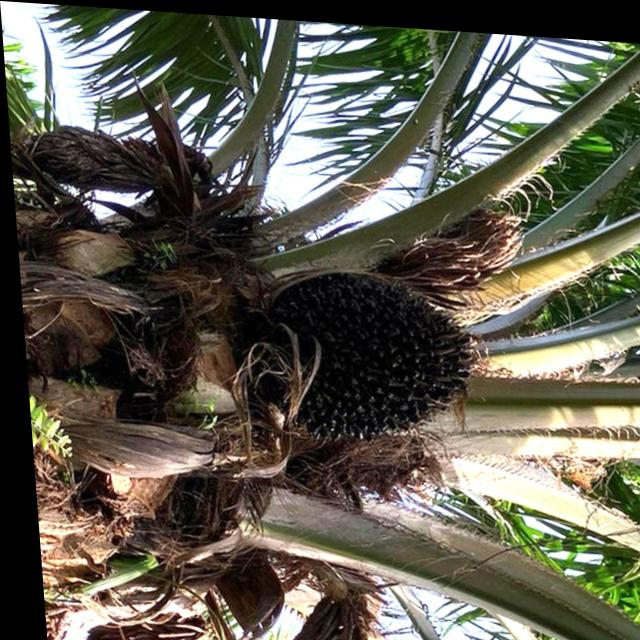unripe: (238, 257, 476, 451)
